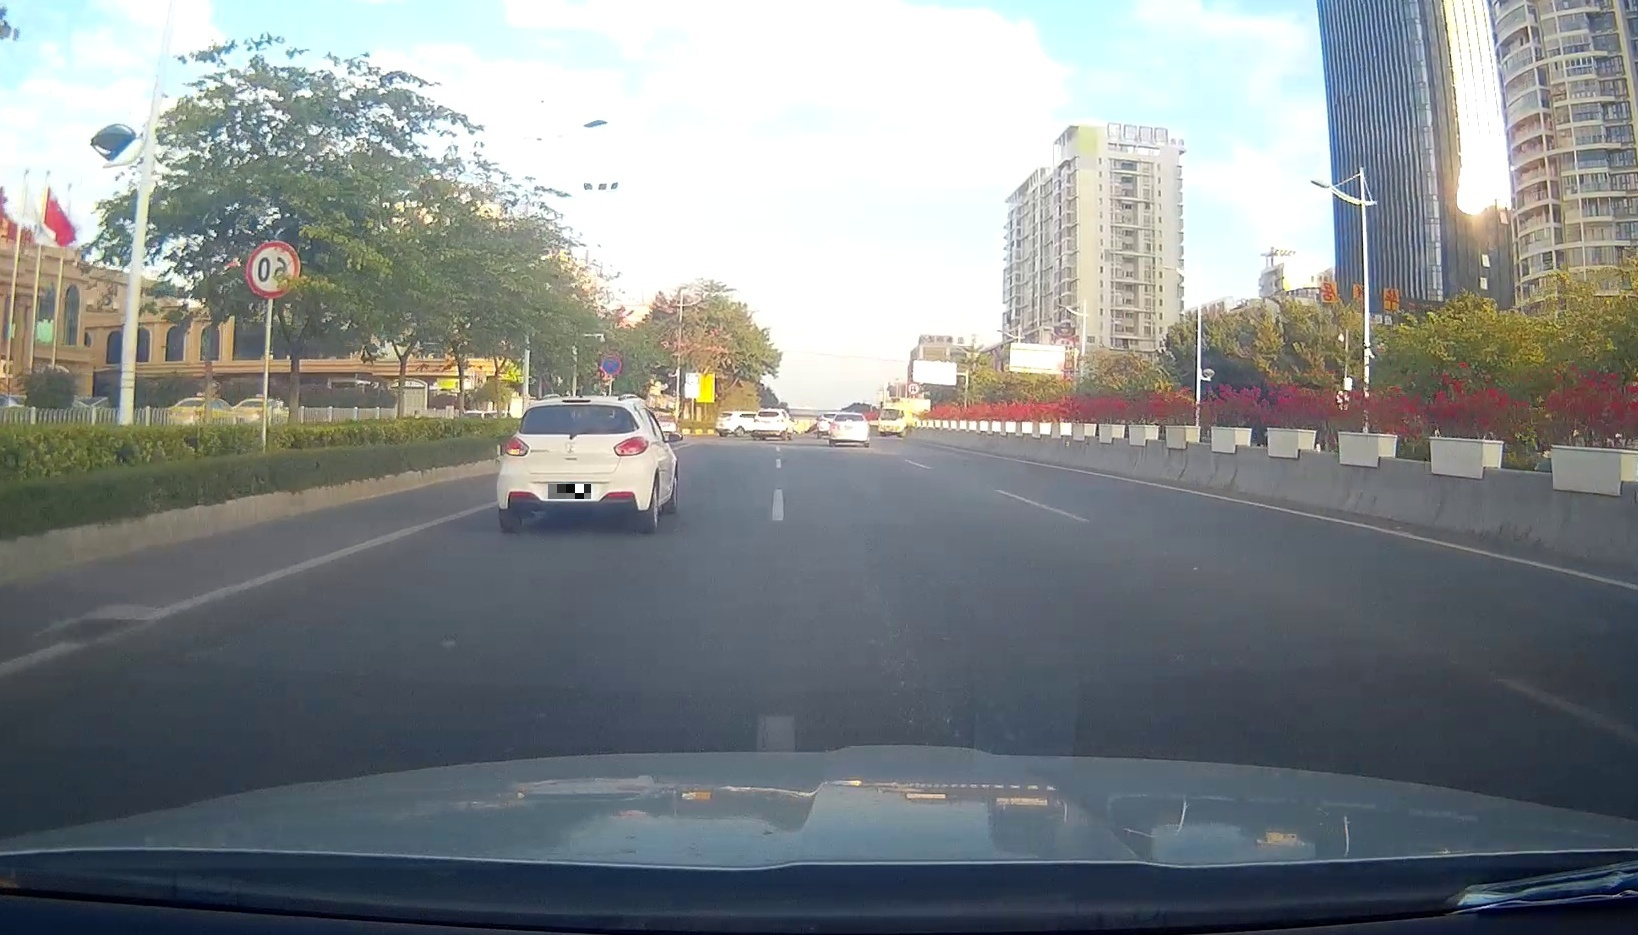L_light: (504, 437, 529, 457)
R_light: (614, 437, 649, 457)
T_light: (562, 398, 591, 403)
day-left: (496, 396, 652, 533)
plate_1: (548, 484, 591, 498)
